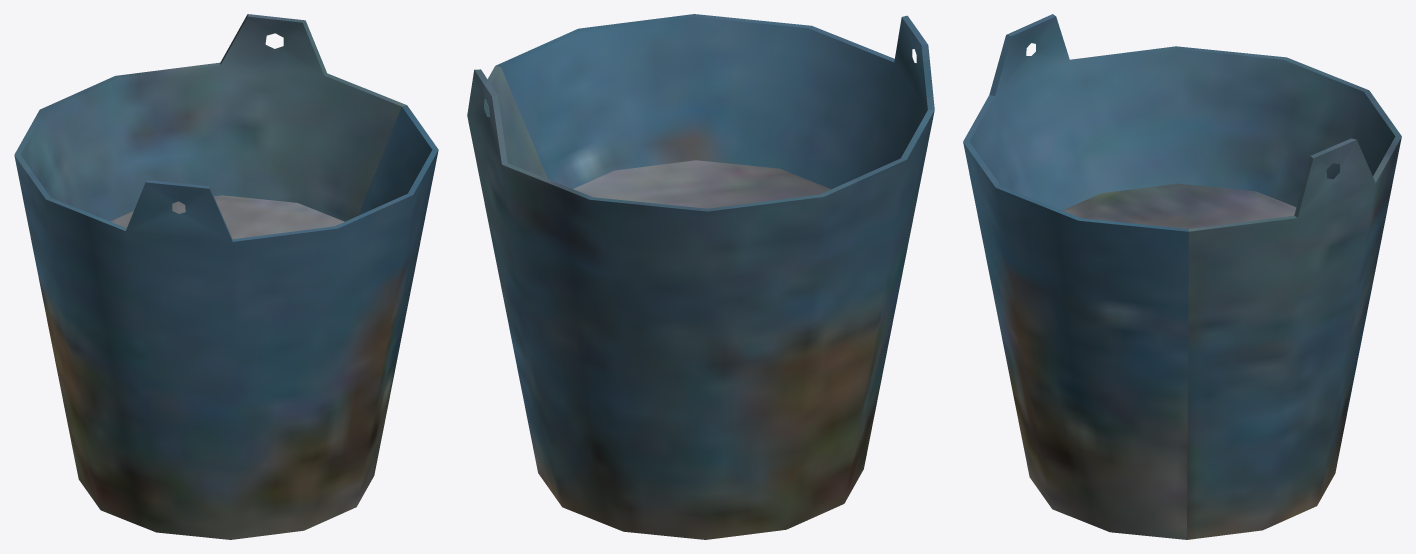
Rendered from Barrel.FBX.
3 views of the same model, side by side, from view 1: azimuth 30°, elevation 25°; view 2: azimuth 150°, elevation 25°; view 3: azimuth 270°, elevation 25° (orthographic). The views are drawn at different scales.
Visible parts, largest first — view 1: Barrel; view 2: Barrel; view 3: Barrel.
Boxes of the visible parts, <box> form: Barrel: <box>14,14,438,539</box>; Barrel: <box>467,14,934,539</box>; Barrel: <box>963,14,1401,539</box>.
Bounding box in the file's own units: 52.75 × 51.57 × 52.75.
1 material, 1 textured.
